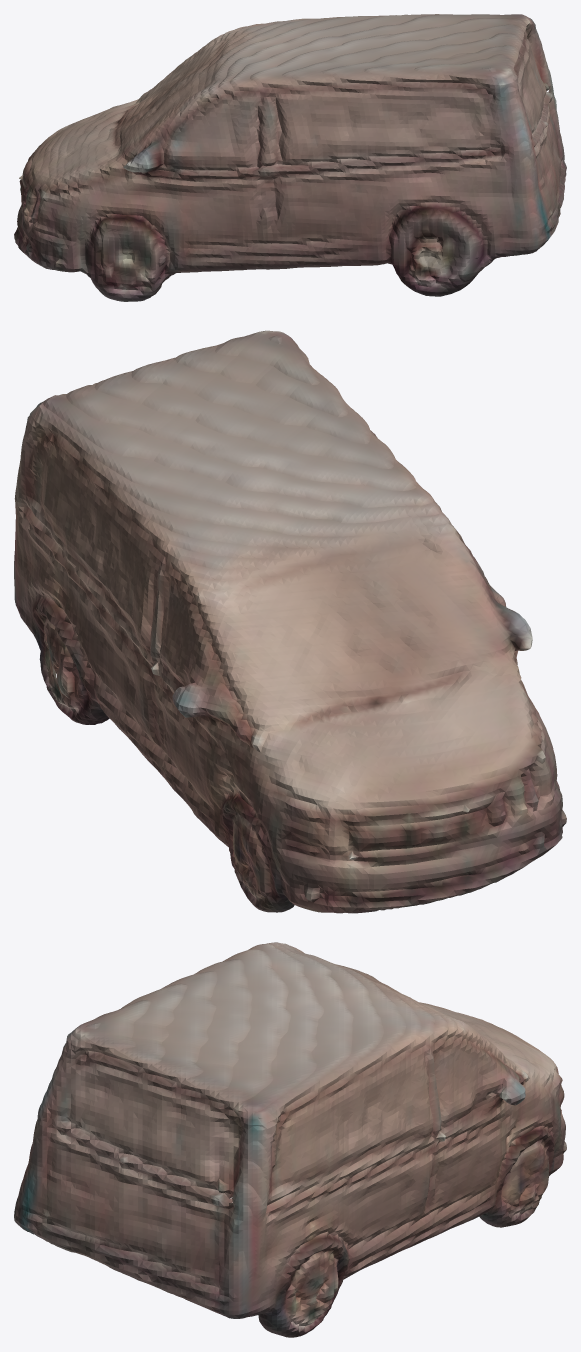
The model's file is suv.glb.
The picture shows the model from 3 angles, top to bottom: view 1: azimuth 30°, elevation 25°; view 2: azimuth 150°, elevation 25°; view 3: azimuth 270°, elevation 25°; orthographic projection. The views are drawn at different scales.
Visible parts, largest first — view 1: suv; view 2: suv; view 3: suv.
Part boxes in pixels (bbox=[...]): suv: bbox=[14, 14, 566, 301]; suv: bbox=[14, 330, 566, 913]; suv: bbox=[14, 942, 566, 1337].
Bounding box in the file's own units: 0.9028 × 0.465 × 0.7882.
